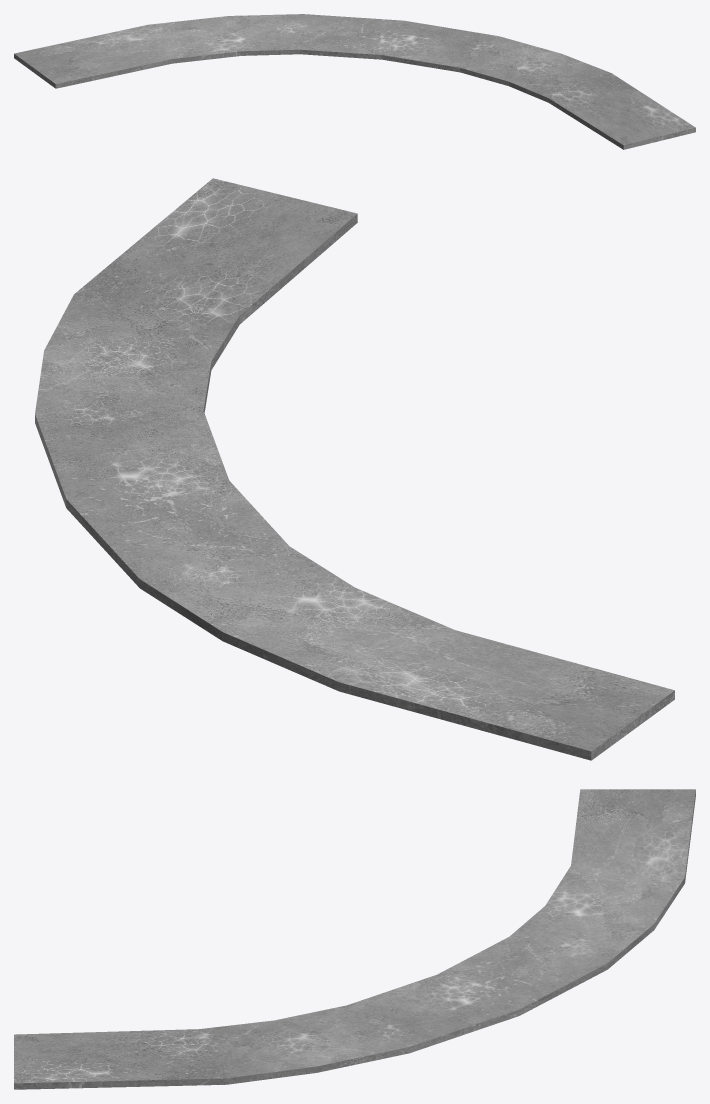
File: SideWalk_LongCurve_stretched.fbx
3 renders of one model, top to bottom at view 1: azimuth 30°, elevation 25°; view 2: azimuth 150°, elevation 25°; view 3: azimuth 270°, elevation 25°, orthographic. The views are drawn at different scales.
Visible parts, largest first — view 1: SideWalk_LongCurve; view 2: SideWalk_LongCurve; view 3: SideWalk_LongCurve.
Boxes of the visible parts, x1,y1,x2,y2 form: SideWalk_LongCurve: [14, 14, 695, 149]; SideWalk_LongCurve: [35, 178, 674, 760]; SideWalk_LongCurve: [14, 789, 695, 1089].
Size of the model in its own units: 9.03 by 0.0914 by 8.85.
